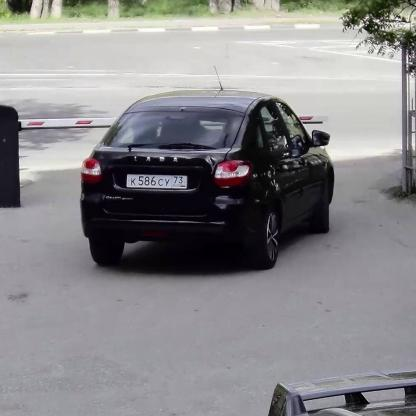plate: (127, 174, 187, 190)
